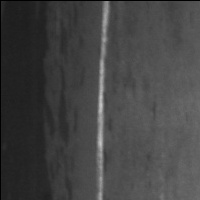inclusion: (2, 3, 75, 200)
scratches: (92, 1, 113, 200)
